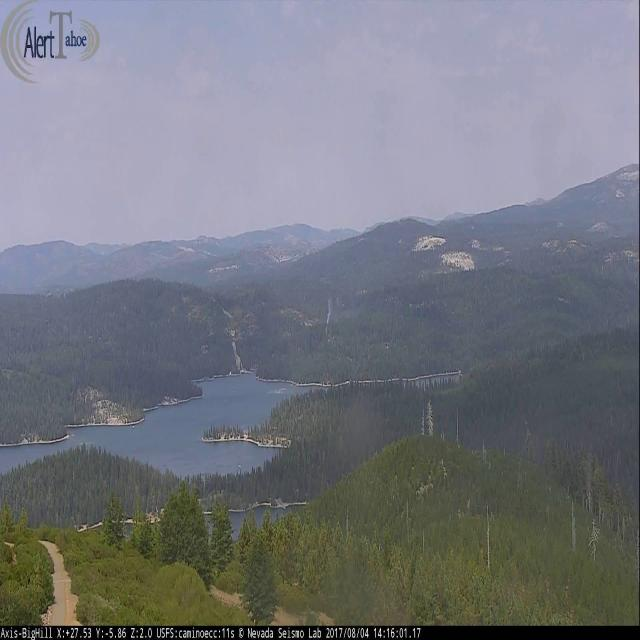smoke: (326, 293, 334, 335)
